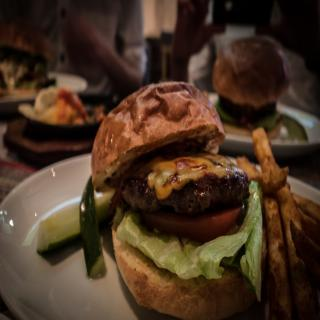French fries: (233, 120, 320, 320)
Hamburger: (90, 83, 266, 320)
